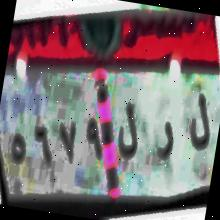5: (6, 124, 30, 177)
6: (28, 118, 59, 178)
7: (54, 118, 80, 172)
9: (80, 113, 106, 172)
laam: (184, 86, 217, 161), (112, 100, 145, 174)
raa: (152, 114, 178, 172)
